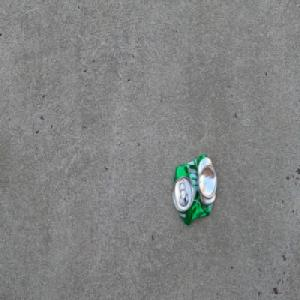SodaCan: (171, 152, 217, 226)
